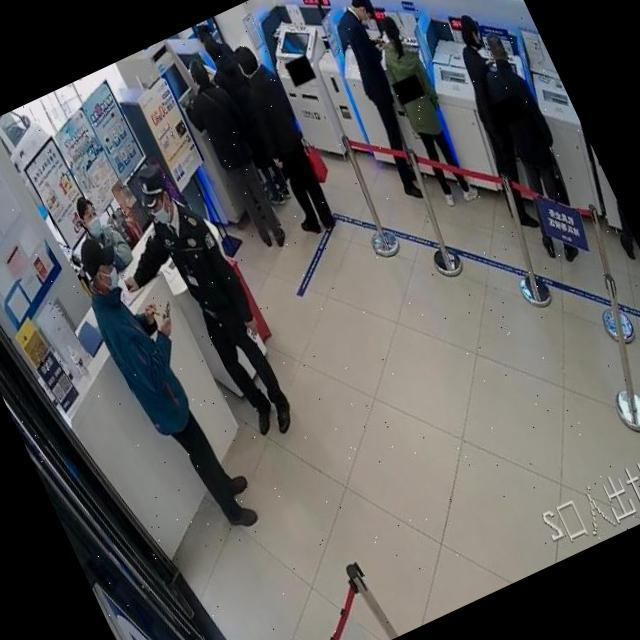person: (82, 150, 308, 470), (62, 222, 265, 550), (62, 222, 266, 548), (448, 22, 604, 266), (452, 25, 606, 269), (426, 10, 568, 237), (318, 0, 456, 205), (167, 53, 297, 262), (360, 7, 488, 216), (220, 37, 346, 244), (362, 9, 484, 212), (190, 20, 306, 217), (540, 61, 640, 276), (545, 76, 640, 279), (68, 188, 140, 280)
